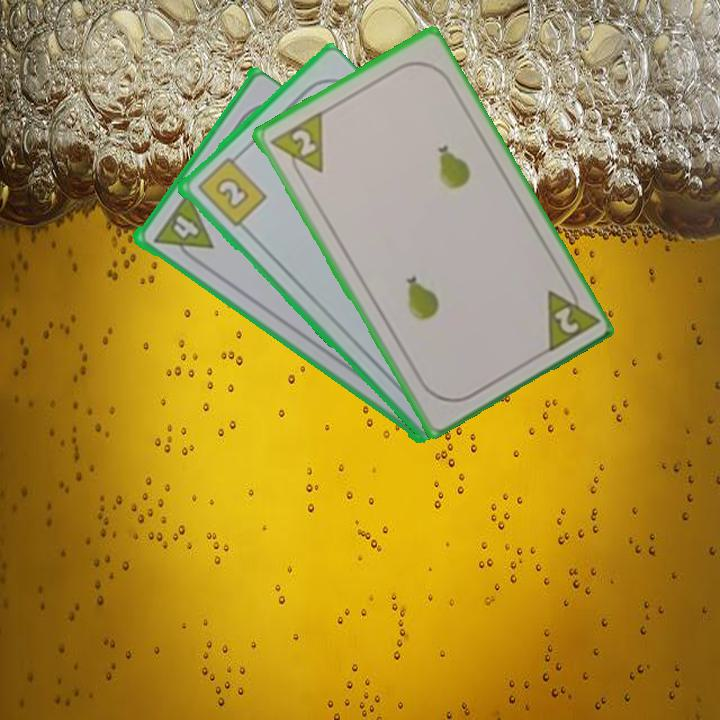2b: (193, 149, 269, 230)
2p: (540, 277, 599, 356), (266, 108, 326, 185)
4p: (149, 190, 215, 268)
